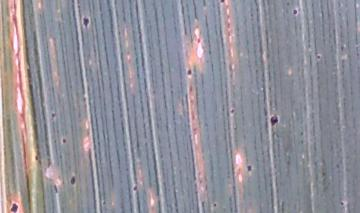tarspot: (79, 14, 92, 29), (69, 173, 77, 187), (9, 202, 19, 213), (245, 161, 253, 173), (290, 4, 298, 16), (130, 182, 139, 192), (100, 197, 108, 207), (49, 109, 56, 119), (186, 66, 193, 76), (315, 52, 323, 60), (338, 199, 345, 208), (33, 153, 40, 162), (229, 106, 236, 115), (211, 200, 218, 208), (61, 136, 67, 145), (217, 1, 227, 5)
